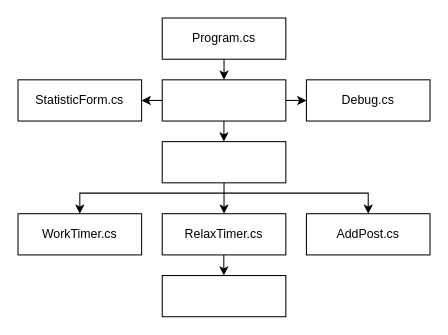
This 448x335 diagram has some shape labels left out. Each missing label, with the centre of its shape:
"Headband.cs" belongs at point (223, 100).
"JournalAskDialog.cs" belongs at point (223, 295).
"MainMenu.cs" belongs at point (223, 162).
